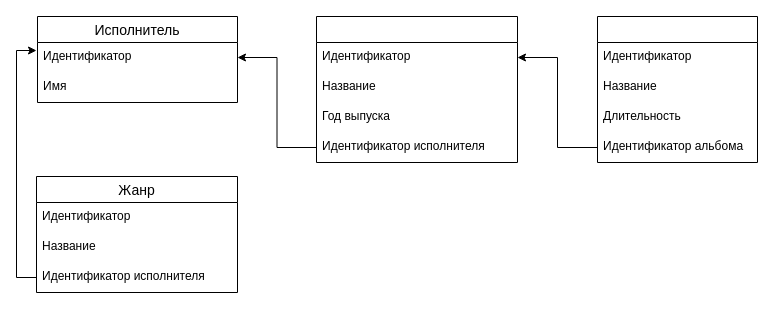
Some shapes in this 774 by 309 pixel diagram are drawn without their labels. The shapes that lost their labels are listed below. From the top down, each one's box as (x1, y1, x2, y2) in pixels, then its label:
(316, 16, 518, 162): Альбом
(596, 16, 758, 162): Трек
